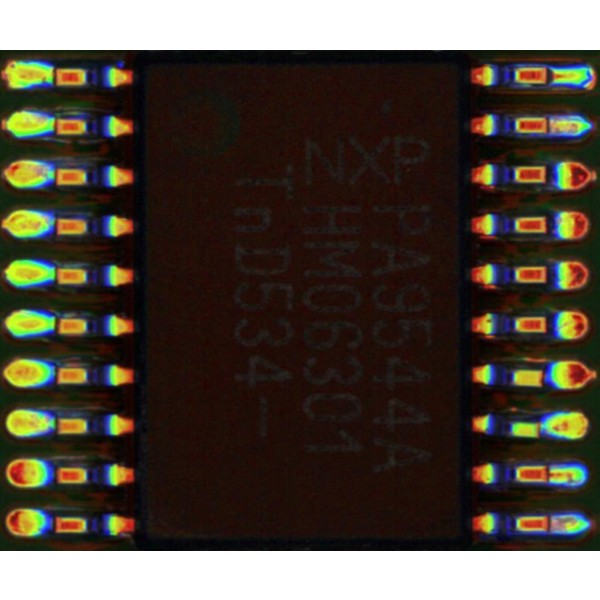Bad_podu: (539, 70, 567, 82), (540, 519, 565, 531), (536, 469, 562, 480), (537, 122, 565, 132)
